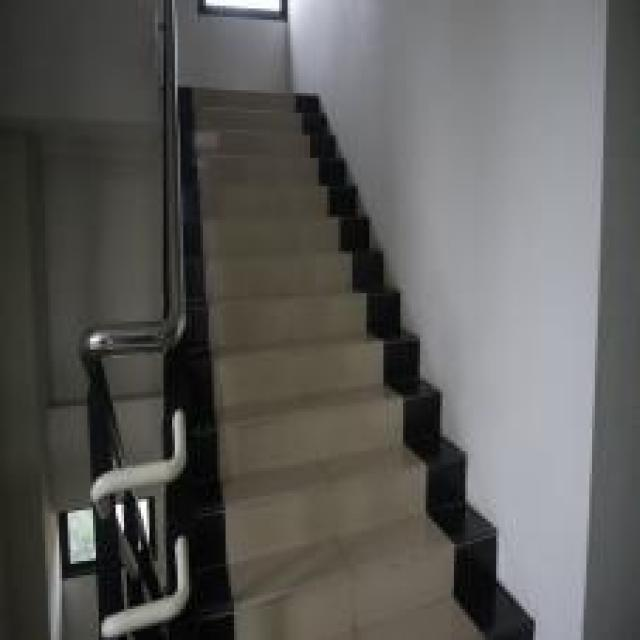upstair: (184, 125, 382, 618)
